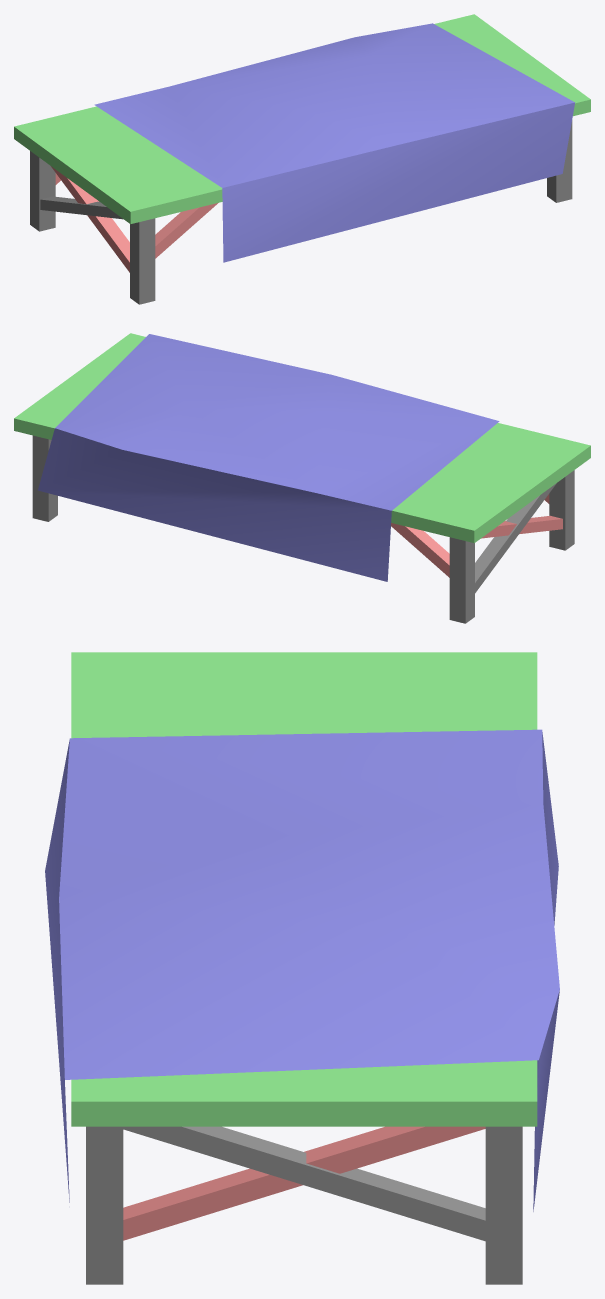
Rendered from L2fortress_02_s__Fort02_medic_bed.gltf.
The picture shows the model from 3 angles, top to bottom: view 1: azimuth 30°, elevation 25°; view 2: azimuth 150°, elevation 25°; view 3: azimuth 270°, elevation 25°; orthographic projection. The views are drawn at different scales.
Visible parts, largest first — view 1: Fort02_medic_bed; view 2: Fort02_medic_bed; view 3: Fort02_medic_bed.
Boxes of the visible parts, x1=… form: Fort02_medic_bed: x1=14, y1=14, x2=590, y2=304; Fort02_medic_bed: x1=14, y1=333, x2=590, y2=623; Fort02_medic_bed: x1=45, y1=652, x2=559, y2=1284.
Size of the model in its own units: 1.11 by 0.2687 by 0.5374.
